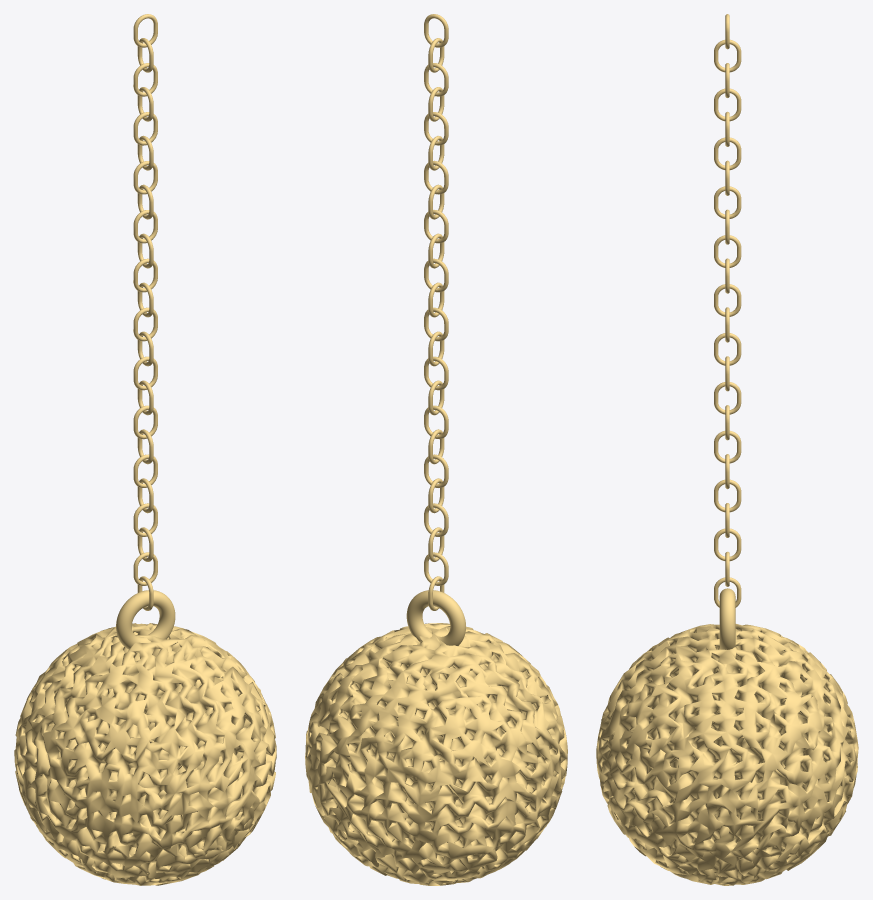
The picture shows the model from 3 angles, left to right: view 1: azimuth 30°, elevation 25°; view 2: azimuth 150°, elevation 25°; view 3: azimuth 270°, elevation 25°; orthographic projection.
Visible parts, largest first — view 1: Pendant_Lattice_GLB, Pendant_Chain_GLB, Pendant_Bail_GLB; view 2: Pendant_Lattice_GLB, Pendant_Chain_GLB, Pendant_Bail_GLB; view 3: Pendant_Lattice_GLB, Pendant_Chain_GLB, Pendant_Bail_GLB.
Boxes of the visible parts, x1,y1,x2,y2 form: Pendant_Lattice_GLB: [14, 623, 276, 885]; Pendant_Chain_GLB: [133, 14, 157, 610]; Pendant_Bail_GLB: [116, 590, 175, 649]; Pendant_Lattice_GLB: [305, 623, 567, 885]; Pendant_Chain_GLB: [424, 14, 448, 610]; Pendant_Bail_GLB: [406, 590, 465, 645]; Pendant_Lattice_GLB: [596, 624, 858, 885]; Pendant_Chain_GLB: [714, 14, 741, 607]; Pendant_Bail_GLB: [719, 588, 735, 649].
Size of the model in its own units: 0.0198 by 0.0716 by 0.0198.
